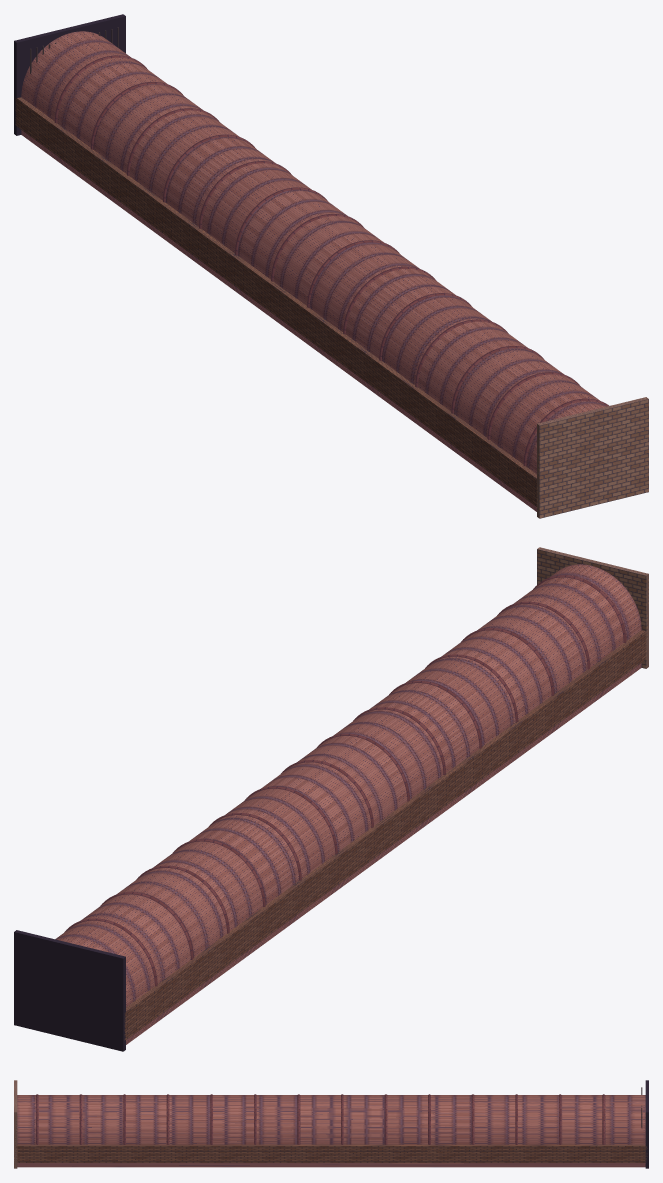
The model's file is esgoto.glb.
The picture shows the model from 3 angles, top to bottom: view 1: azimuth 30°, elevation 25°; view 2: azimuth 150°, elevation 25°; view 3: azimuth 270°, elevation 25°; orthographic projection. The views are drawn at different scales.
Bounding box in the file's own units: 7 × 5.7 × 58.3.
48 materials, 6 textured.
